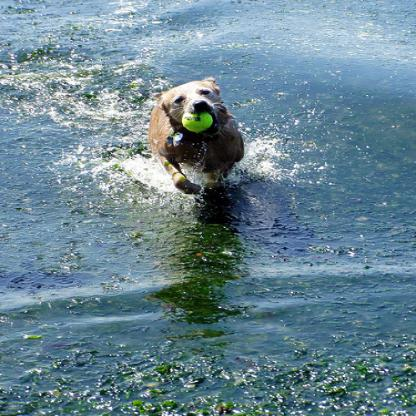dog: (144, 75, 245, 196)
